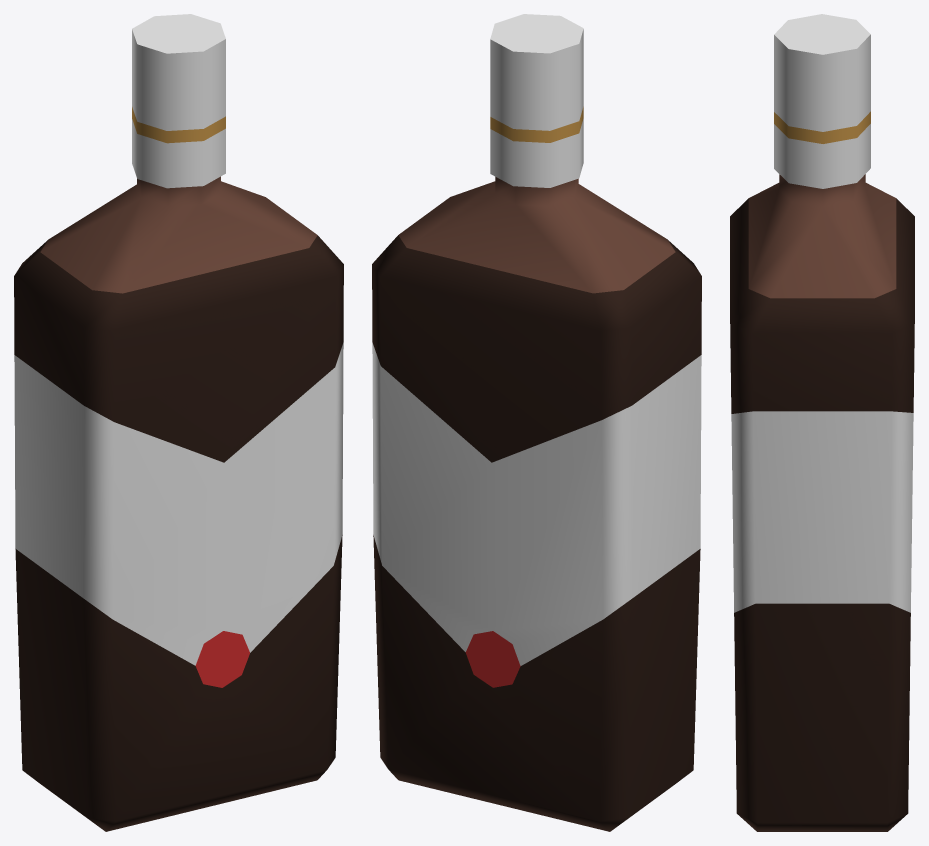
The model's file is prop_073.fbx.
3 views of the same model, side by side, from view 1: azimuth 30°, elevation 25°; view 2: azimuth 150°, elevation 25°; view 3: azimuth 270°, elevation 25° (orthographic).
Parts seen in each view (by area): view 1: prop_073; view 2: prop_073; view 3: prop_073.
Boxes of the visible parts, <box> form: prop_073: <box>14,14,343,831</box>; prop_073: <box>372,14,701,831</box>; prop_073: <box>730,14,914,831</box>.
Size of the model in its own units: 15.29 by 9.45 by 42.11.
